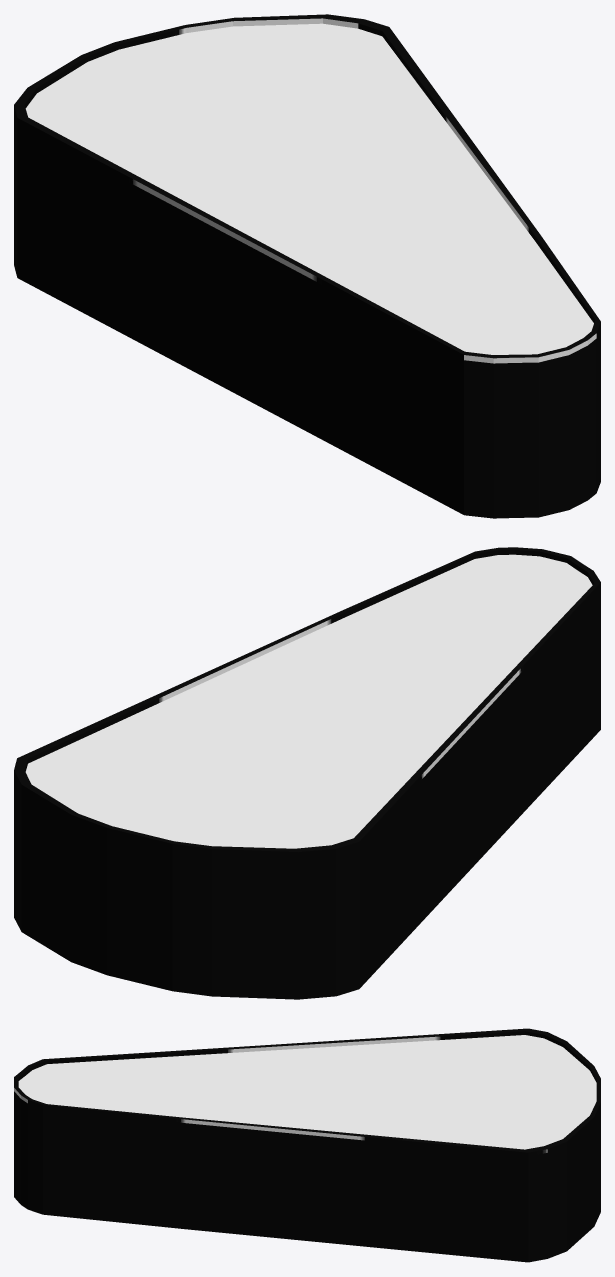
File: leftflip.obj
The picture shows the model from 3 angles, top to bottom: view 1: azimuth 30°, elevation 25°; view 2: azimuth 150°, elevation 25°; view 3: azimuth 270°, elevation 25°; orthographic projection. The views are drawn at different scales.
Visible parts, largest first — view 1: Cube; view 2: Cube; view 3: Cube.
Part boxes in pixels (x1=…): Cube: x1=14, y1=14, x2=600, y2=518; Cube: x1=14, y1=547, x2=600, y2=999; Cube: x1=14, y1=1028, x2=600, y2=1262.
Size of the model in its own units: 1.21 by 0.4977 by 2.41.
